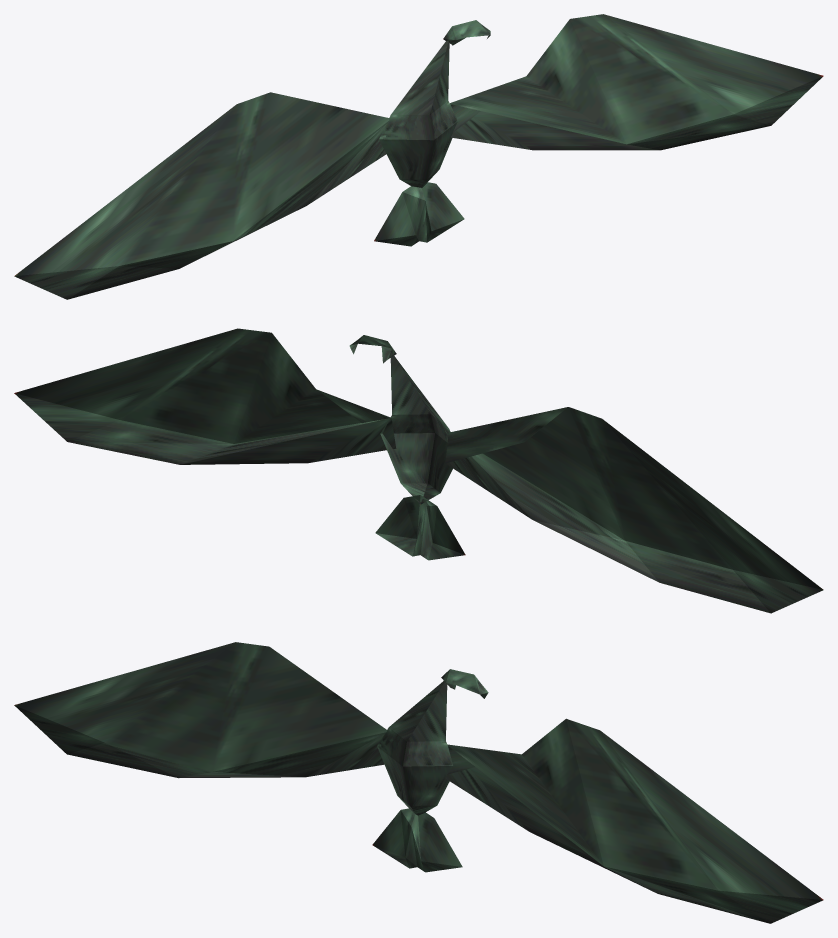
Rendered from Statue_Adler_134.glb.
The picture shows the model from 3 angles, top to bottom: view 1: azimuth 30°, elevation 25°; view 2: azimuth 150°, elevation 25°; view 3: azimuth 330°, elevation 25°; orthographic projection.
Visible parts, largest first — view 1: pSphereShape2, pSphereShape5, pSphereShape1, pSphereShape4, pSphereShape3; view 2: pSphereShape2, pSphereShape5, pSphereShape1, pSphereShape4; view 3: pSphereShape2, pSphereShape5, pSphereShape1, pSphereShape4, pSphereShape3.
Part boxes in pixels (x1=…): pSphereShape2: x1=14, y1=92, x2=389, y2=299; pSphereShape5: x1=450, y1=14, x2=823, y2=150; pSphereShape1: x1=379, y1=41, x2=457, y2=187; pSphereShape4: x1=374, y1=182, x2=464, y2=246; pSphereShape3: x1=443, y1=20, x2=490, y2=45; pSphereShape2: x1=445, y1=407, x2=823, y2=613; pSphereShape5: x1=14, y1=328, x2=396, y2=464; pSphereShape1: x1=380, y1=351, x2=453, y2=504; pSphereShape4: x1=375, y1=495, x2=465, y2=560; pSphereShape2: x1=14, y1=642, x2=387, y2=778; pSphereShape5: x1=445, y1=718, x2=823, y2=923; pSphereShape1: x1=377, y1=681, x2=452, y2=815; pSphereShape4: x1=372, y1=808, x2=462, y2=872; pSphereShape3: x1=441, y1=669, x2=488, y2=698.
Bounding box in the file's own units: 1.47 × 0.3641 × 0.0532.
5 materials, 5 textured.
